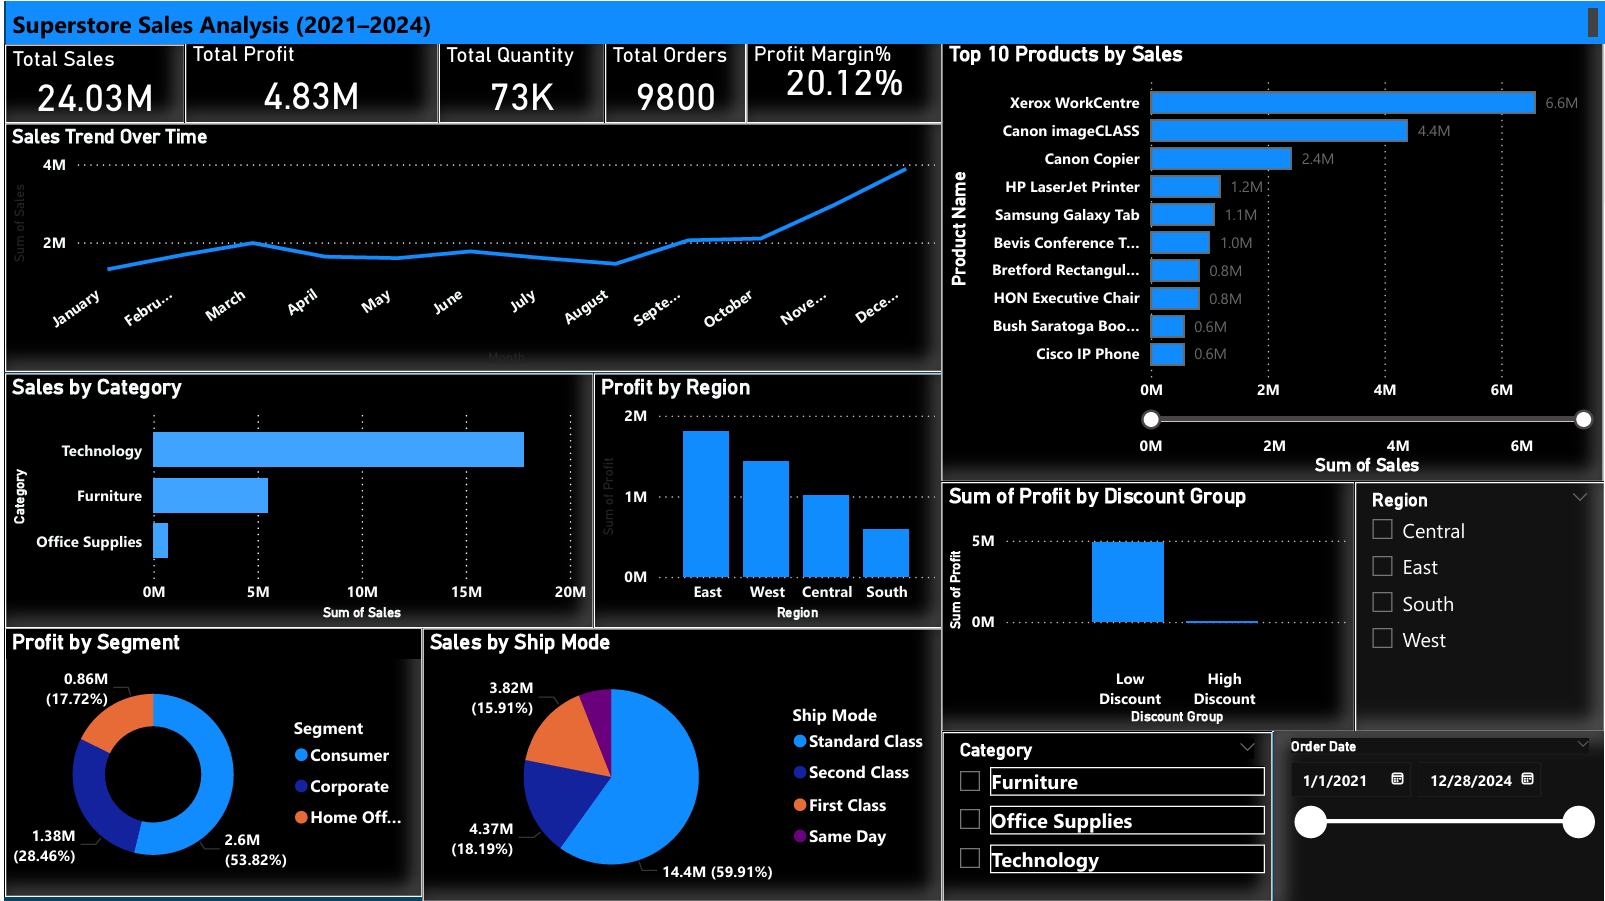

This screenshot's page, from the dashboard's own definition file:
{"tool":"powerbi","page":{"name":"Page 1","canvas":[1280,720],"ordinal":0},"visuals":[{"type":"card","title":"Total Sales","fields":{"Values":["Sum(superstore_sales.Sales)"]},"box":[0,34.3,144.3,62.9],"z":0},{"type":"card","title":"Total Profit","fields":{"Values":["Sum(superstore_sales.Profit)"]},"box":[144.3,30,202.9,67.1],"z":1000},{"type":"card","title":"Total Quantity","fields":{"Values":["Sum(superstore_sales.Quantity)"]},"box":[347.1,31.4,132.9,65.7],"z":2000},{"type":"card","title":"Total Orders","fields":{"Values":["superstore_sales.Total Orders"]},"box":[480,31.4,112.9,65.7],"z":3000},{"type":"card","title":"Profit Margin%","fields":{"Values":["superstore_sales.Profit Margin %"]},"box":[592.9,30,157.1,67.1],"z":4000},{"type":"lineChart","title":"Sales Trend Over Time","fields":{"Category":["superstore_sales.Order Date.Variation.Date Hierarchy.Year","superstore_sales.Order Date.Variation.Date Hierarchy.Quarter","superstore_sales.Order Date.Variation.Date Hierarchy.Month","superstore_sales.Order Date.Variation.Date Hierarchy.Day"],"Y":["Sum(superstore_sales.Sales)"]},"box":[0,97.1,750,198.6],"z":5000},{"type":"clusteredBarChart","title":"Sales by Category","fields":{"Category":["superstore_sales.Category"],"Y":["Sum(superstore_sales.Sales)"]},"box":[0,297.1,471.4,204.3],"z":6000},{"type":"clusteredColumnChart","title":"Profit by Region","fields":{"Category":["superstore_sales.Region"],"Y":["Sum(superstore_sales.Profit)"]},"box":[471.4,297.1,278.6,204.3],"z":7000},{"type":"donutChart","title":"Profit by Segment","fields":{"Category":["superstore_sales.Segment"],"Y":["Sum(superstore_sales.Profit)"]},"box":[0,501.4,334.3,214.3],"z":8000},{"type":"pieChart","title":"Sales by Ship Mode","fields":{"Category":["superstore_sales.Ship Mode"],"Y":["Sum(superstore_sales.Sales)"]},"box":[334.3,501.4,415.7,218.6],"z":9000},{"type":"clusteredBarChart","title":"Top 10 Products by Sales","fields":{"Y":["Sum(superstore_sales.Sales)"],"Category":["superstore_sales.Product Name"]},"box":[748.6,30,530,354.3],"z":10000},{"type":"clusteredColumnChart","fields":{"Category":["superstore_sales.Discount Group"],"Y":["Sum(superstore_sales.Profit)"]},"box":[748.6,384.3,331.4,200],"z":11000},{"type":"slicer","fields":{"Values":["superstore_sales.Region"]},"box":[1080,384.3,200,200],"z":12000},{"type":"slicer","fields":{"Values":["superstore_sales.Category"]},"box":[750,584.3,264.3,135.7],"z":13000},{"type":"slicer","fields":{"Values":["superstore_sales.Order Date"]},"box":[1015.7,584.3,264.3,135.7],"z":14000},{"type":"textbox","box":[1.4,0,1278.6,34.3],"z":14001}]}

Visuals, with their boxes in screenshot pixels (x1, y1, x2, y2), scaled from the page's 1280x720 canvas onto the 1605x901 screenshot:
"Total Sales" card: {"x1": 0, "y1": 43, "x2": 181, "y2": 122}
"Total Profit" card: {"x1": 181, "y1": 38, "x2": 435, "y2": 122}
"Total Quantity" card: {"x1": 435, "y1": 39, "x2": 602, "y2": 122}
"Total Orders" card: {"x1": 602, "y1": 39, "x2": 743, "y2": 122}
"Profit Margin%" card: {"x1": 743, "y1": 38, "x2": 940, "y2": 122}
"Sales Trend Over Time" lineChart: {"x1": 0, "y1": 122, "x2": 940, "y2": 370}
"Sales by Category" clusteredBarChart: {"x1": 0, "y1": 372, "x2": 591, "y2": 627}
"Profit by Region" clusteredColumnChart: {"x1": 591, "y1": 372, "x2": 940, "y2": 627}
"Profit by Segment" donutChart: {"x1": 0, "y1": 627, "x2": 419, "y2": 896}
"Sales by Ship Mode" pieChart: {"x1": 419, "y1": 627, "x2": 940, "y2": 900}
"Top 10 Products by Sales" clusteredBarChart: {"x1": 939, "y1": 38, "x2": 1603, "y2": 481}
clusteredColumnChart - superstore_sales.Discount Group x Sum(superstore_sales.Profit): {"x1": 939, "y1": 481, "x2": 1354, "y2": 731}
slicer - superstore_sales.Region: {"x1": 1354, "y1": 481, "x2": 1604, "y2": 731}
slicer - superstore_sales.Category: {"x1": 940, "y1": 731, "x2": 1272, "y2": 900}
slicer - superstore_sales.Order Date: {"x1": 1274, "y1": 731, "x2": 1604, "y2": 900}
textbox: {"x1": 2, "y1": 0, "x2": 1604, "y2": 43}
